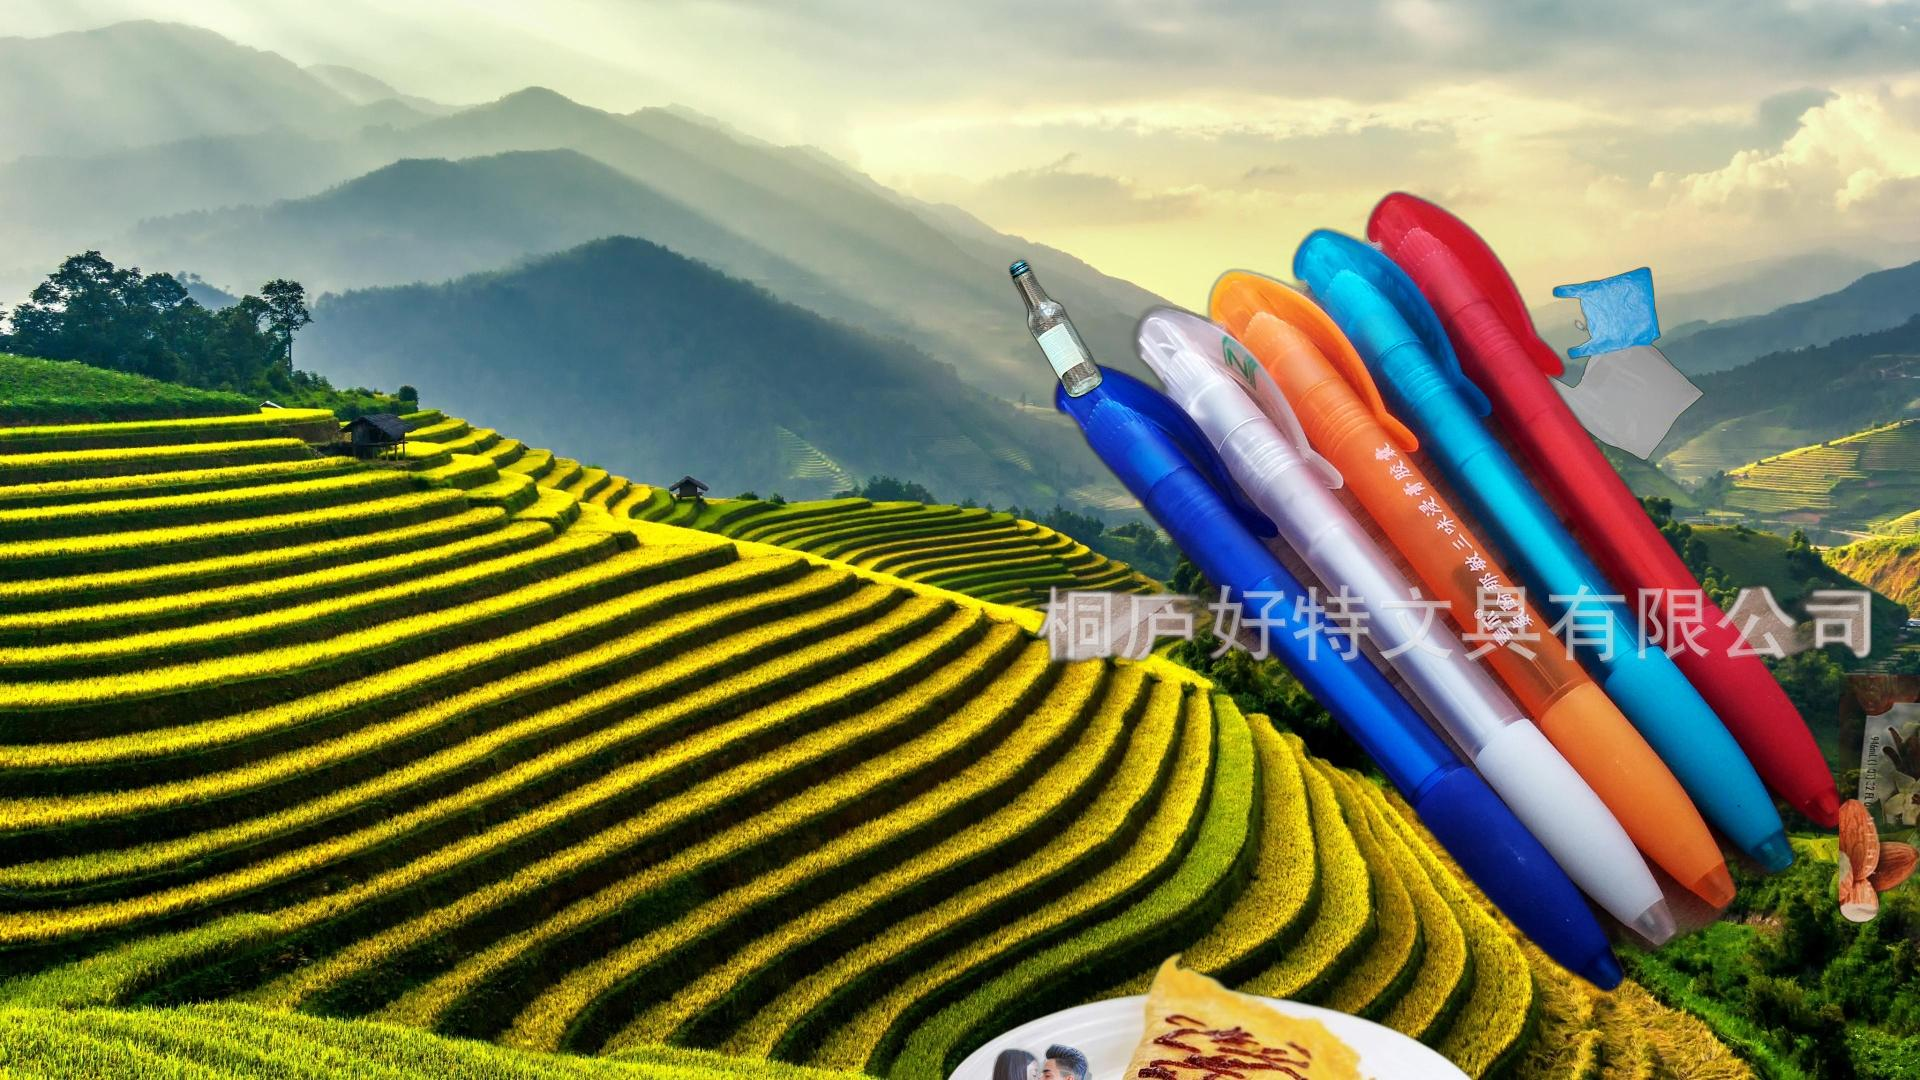biological: (935, 899, 1511, 1080)
glass: (1309, 469, 1540, 589), (1006, 255, 1106, 417)
penholder: (1027, 182, 1880, 1002)
plastic-bag: (1528, 264, 1706, 463)
trashbox-cardboard: (1840, 675, 1920, 1058), (1635, 1031, 1920, 1080), (909, 1031, 1188, 1080)
